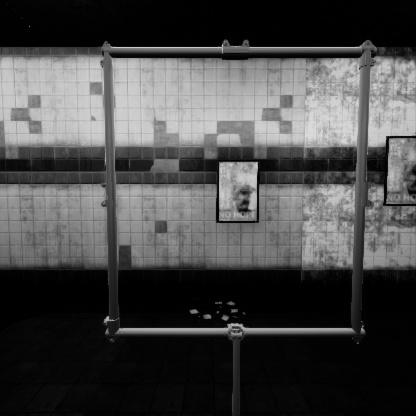gate: (103, 73, 400, 371)
